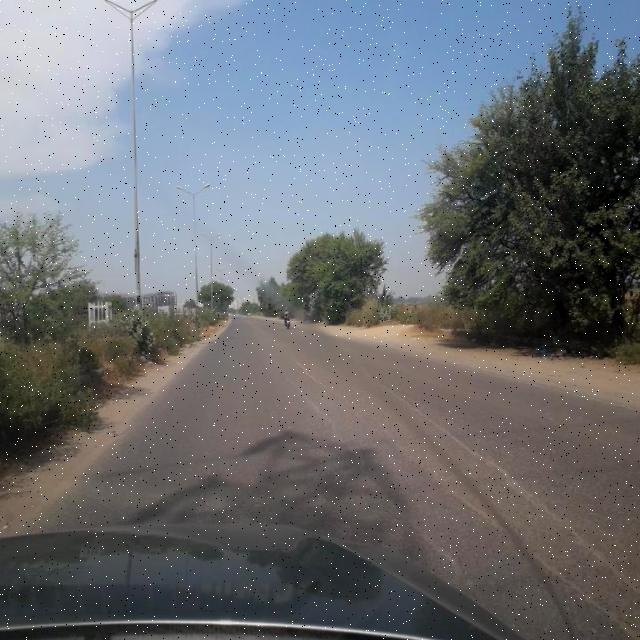D00: (388, 370, 634, 588), (281, 356, 459, 580)
